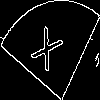X: (25, 25, 65, 81)
